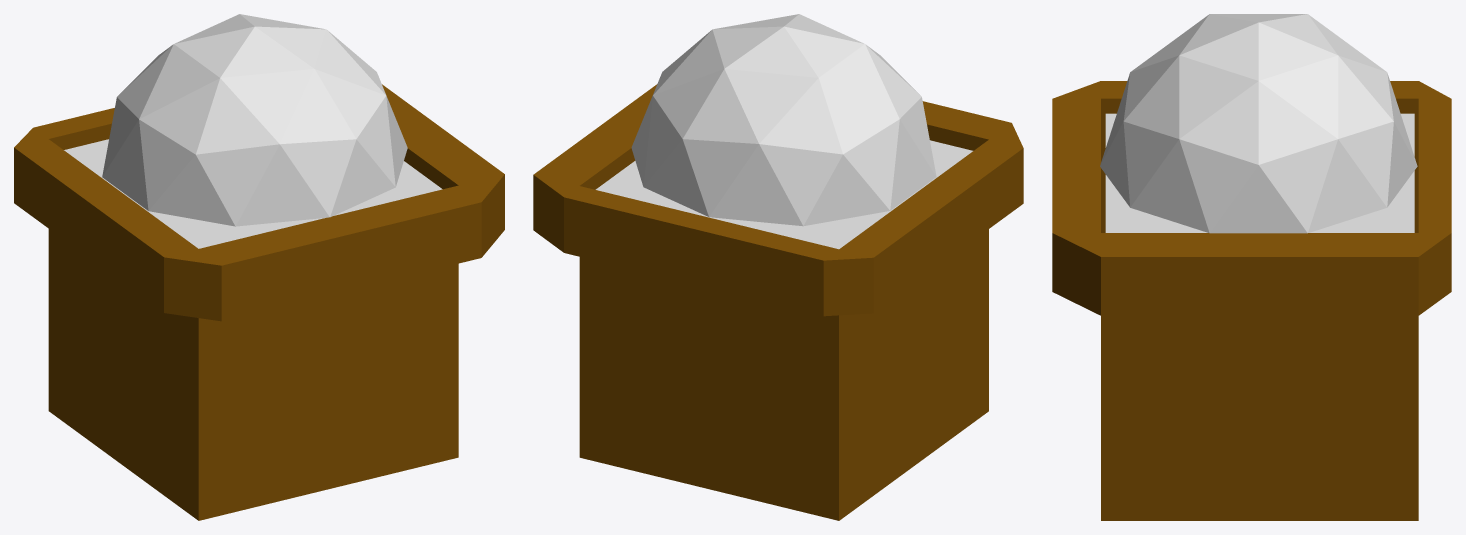
File: Bag_Of_Flour.fbx
The picture shows the model from 3 angles, left to right: view 1: azimuth 30°, elevation 25°; view 2: azimuth 150°, elevation 25°; view 3: azimuth 270°, elevation 25°; orthographic projection. The views are drawn at different scales.
Visible parts, largest first — view 1: Icosphere; view 2: Icosphere; view 3: Icosphere.
Boxes of the visible parts, x1,y1,x2,y2 form: Icosphere: (14,14,504,520); Icosphere: (533,14,1023,520); Icosphere: (1052,14,1451,520).
Size of the model in its own units: 2.62 by 3 by 2.51.
